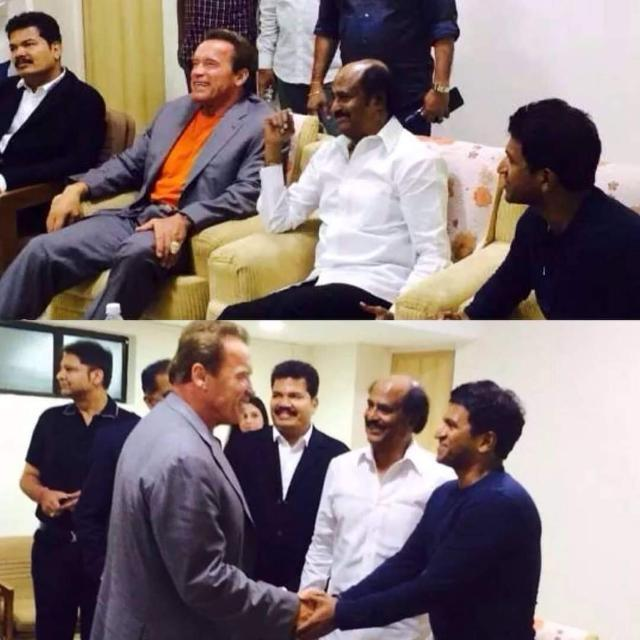person: (108, 21, 292, 266), (484, 52, 634, 348), (278, 46, 414, 310), (0, 334, 146, 570), (149, 316, 269, 580), (422, 390, 520, 640), (255, 362, 368, 558), (332, 374, 446, 556), (0, 11, 86, 200)
